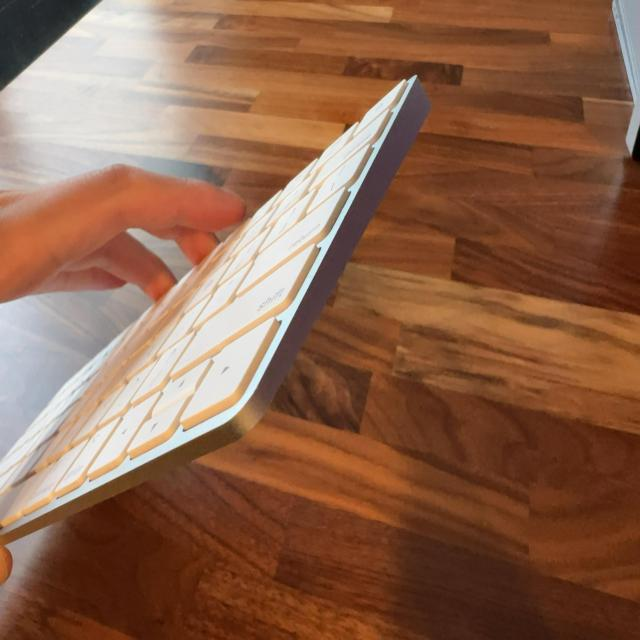keyboard: (0, 76, 433, 533)
